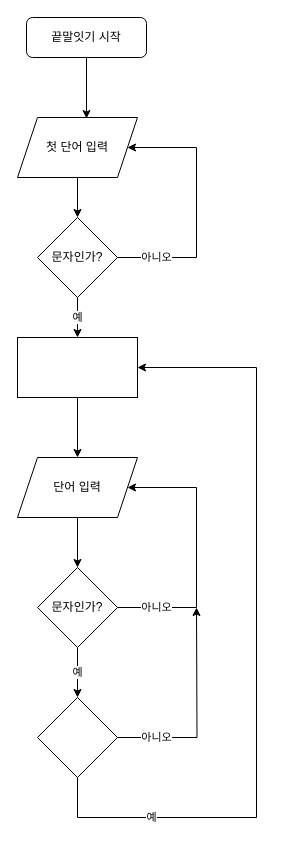
Image size: 282x843. Some labels were removed from this diagram. Here are the shapes that lost their labels. From the top down, the centre of each, then its label:
[77,367]: 첫 글자 설정
[77,737]: 규칙에 맞는가?
